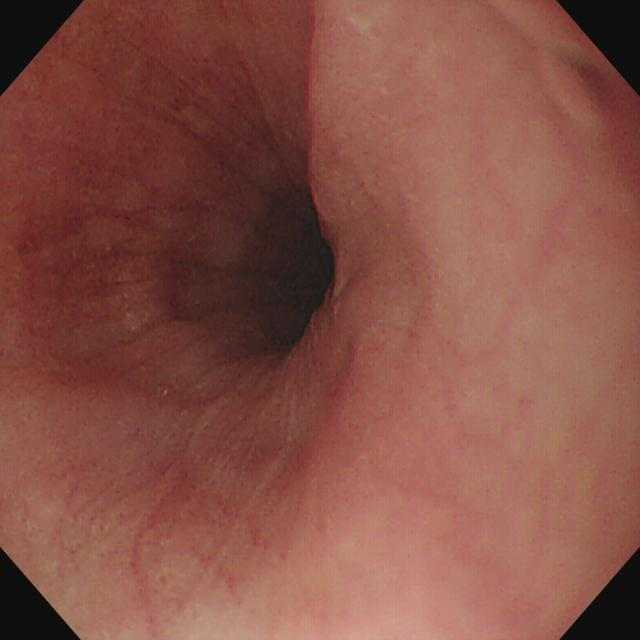E: (251, 187, 336, 351)
